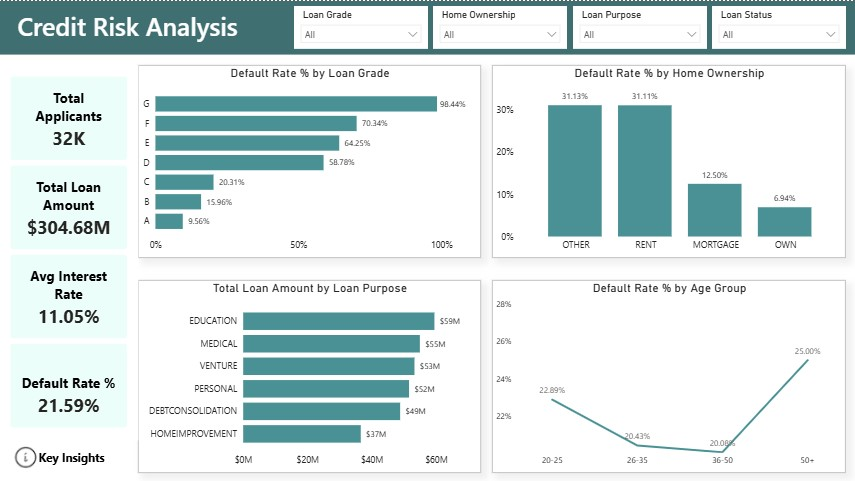

What the dashboard file says about the page in this screenshot:
{"tool":"powerbi","page":{"name":"Page 1","canvas":[1280,720],"ordinal":0},"visuals":[{"type":"textbox","box":[0,0,1280,80],"z":0},{"type":"clusteredBarChart","title":"Default Rate % by Loan Grade","fields":{"Y":["credit_risk_analysis.Default Rate %"],"Category":["credit_risk_analysis.loan_grade"]},"box":[208,96,512,288],"z":1000},{"type":"clusteredColumnChart","title":"Default Rate % by Home Ownership","fields":{"Y":["credit_risk_analysis.Default Rate %"],"Category":["credit_risk_analysis.person_home_ownership"]},"box":[736,96,528,288],"z":2000},{"type":"clusteredBarChart","title":"Total Loan Amount by Loan Purpose","fields":{"Category":["credit_risk_analysis.loan_intent"],"Y":["Sum(credit_risk_analysis.loan_amnt)"]},"box":[208,416,512,288],"z":3000},{"type":"lineChart","fields":{"Y":["credit_risk_analysis.Default Rate %"],"Category":["credit_risk_analysis.Age Group"]},"box":[736,416,528,288],"z":4000},{"type":"slicer","title":"Loan Grade","fields":{"Values":["credit_risk_analysis.loan_grade"]},"box":[440,8,200,64],"z":5000},{"type":"slicer","title":"Loan Grade","fields":{"Values":["credit_risk_analysis.person_home_ownership"]},"box":[648,8,200,64],"z":6000},{"type":"slicer","title":"Loan Grade","fields":{"Values":["credit_risk_analysis.loan_intent"]},"box":[856,8,200,64],"z":7000},{"type":"slicer","fields":{"Values":["credit_risk_analysis.Loan Status Label"]},"box":[1064,8,200,64],"z":8000},{"type":"cardVisual","fields":{"Data":["credit_risk_analysis.Total Applicants","Sum(credit_risk_analysis.loan_amnt)","credit_risk_analysis.Avg Interest Rate","credit_risk_analysis.Default Rate %"]},"box":[0,96,208,560],"z":9000},{"type":"actionButton","box":[16,656,176,48],"z":10000}]}

Visuals, with their boxes in screenshot pixels (x1, y1, x2, y2), scaled from the page's 1280x720 canvas onto the 855x481 screenshot:
textbox: box=[0, 0, 854, 53]
"Default Rate % by Loan Grade" clusteredBarChart: box=[139, 64, 481, 257]
"Default Rate % by Home Ownership" clusteredColumnChart: box=[492, 64, 844, 257]
"Total Loan Amount by Loan Purpose" clusteredBarChart: box=[139, 278, 481, 470]
lineChart - credit_risk_analysis.Default Rate % x credit_risk_analysis.Age Group: box=[492, 278, 844, 470]
"Loan Grade" slicer: box=[294, 5, 428, 48]
"Loan Grade" slicer: box=[433, 5, 566, 48]
"Loan Grade" slicer: box=[572, 5, 705, 48]
slicer - credit_risk_analysis.Loan Status Label: box=[711, 5, 844, 48]
cardVisual - credit_risk_analysis.Total Applicants x Sum(credit_risk_analysis.loan_amnt): box=[0, 64, 139, 438]
actionButton: box=[11, 438, 128, 470]
